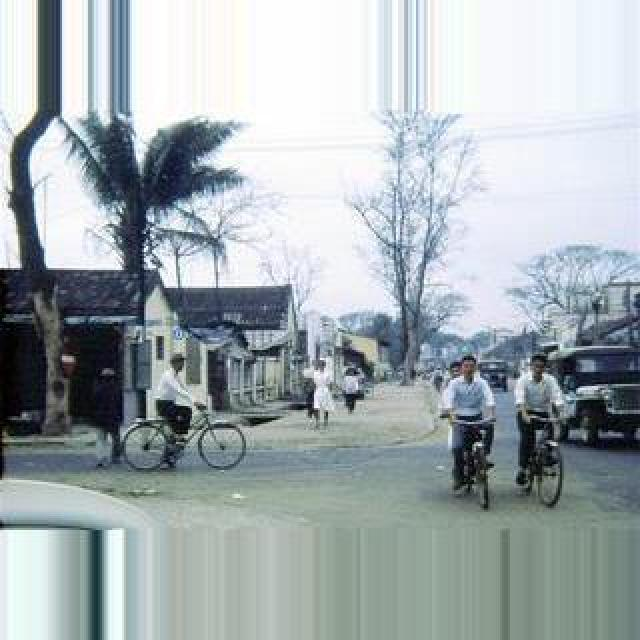Bus-Bike: (548, 346, 640, 446)
MC-Bike: (512, 352, 566, 490), (440, 356, 496, 480), (154, 354, 196, 460)
Person: (122, 398, 248, 474), (446, 414, 498, 508), (516, 418, 568, 510)
